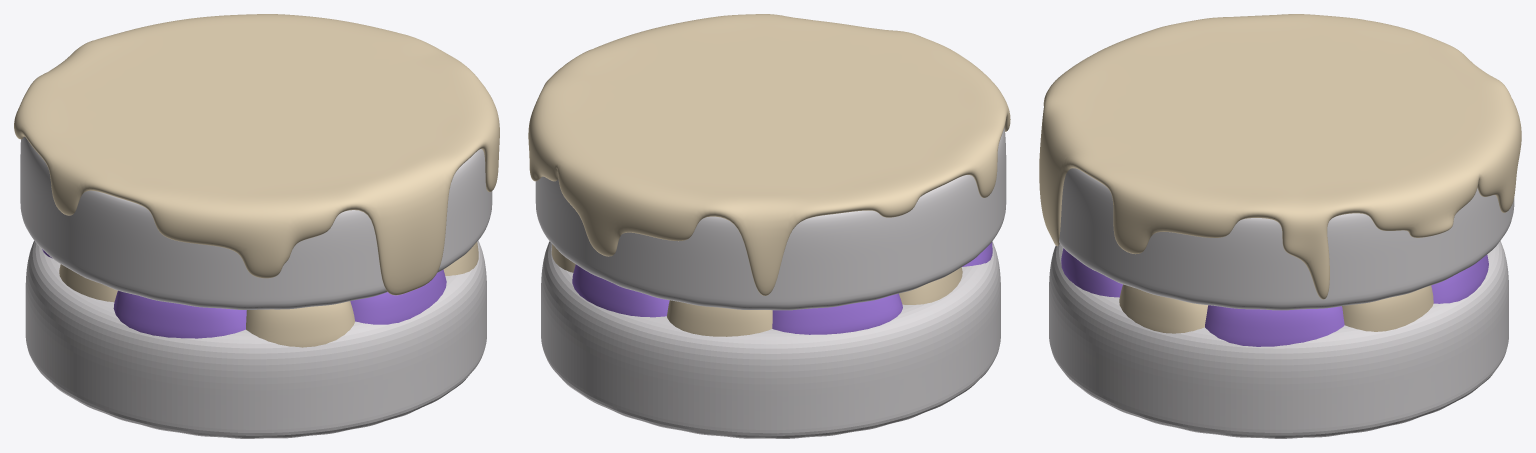
File: Cake02.fbx
3 views of the same model, side by side, from view 1: azimuth 30°, elevation 25°; view 2: azimuth 150°, elevation 25°; view 3: azimuth 270°, elevation 25° (orthographic).
Visible parts, largest first — view 1: Cake top cream; view 2: Cake top cream; view 3: Cake top cream.
Boxes of the visible parts, bbox=[...] form: Cake top cream: bbox=[14, 14, 499, 438]; Cake top cream: bbox=[528, 14, 1010, 438]; Cake top cream: bbox=[1039, 14, 1521, 438].
Bounding box in the file's own units: 216 × 122 × 215.
